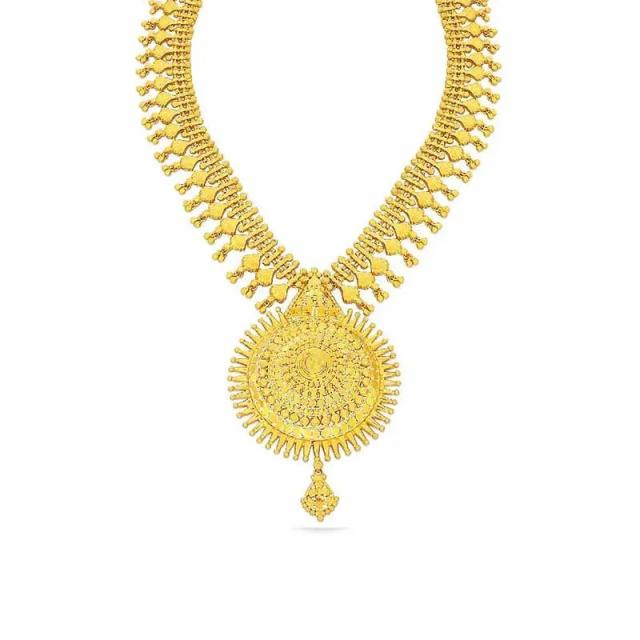missing gem: (305, 354, 325, 372)
